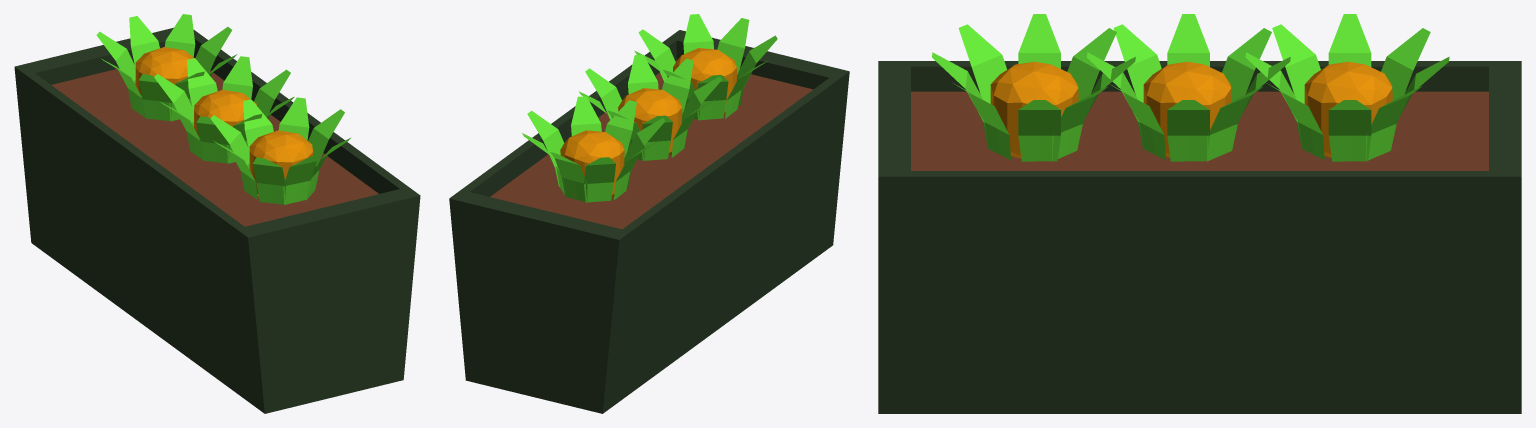
The model's file is flowerpod.fbx.
The picture shows the model from 3 angles, left to right: view 1: azimuth 30°, elevation 25°; view 2: azimuth 150°, elevation 25°; view 3: azimuth 270°, elevation 25°; orthographic projection. The views are drawn at different scales.
Visible parts, largest first — view 1: Cube, Plane.025, Plane, Cylinder.001; view 2: Cube, Plane.025, Plane, Cylinder.001; view 3: Cube, Plane.025, Plane, Cylinder.001.
Part boxes in pixels (x1,y1,x2,y2): Cube: (14,27,420,413); Plane.025: (96,14,351,204); Plane: (51,68,378,226); Cylinder.001: (135,47,312,195); Cube: (449,30,849,413); Plane.025: (522,14,777,202); Plane: (490,60,812,229); Cylinder.001: (560,48,736,196); Cube: (878,61,1521,413); Plane.025: (932,14,1449,161); Plane: (911,91,1488,170); Cylinder.001: (990,61,1392,158).
Size of the model in its own units: 210 by 264 by 493.
